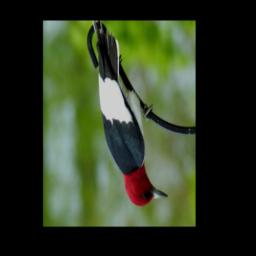Woodpecker: (90, 21, 169, 208)
